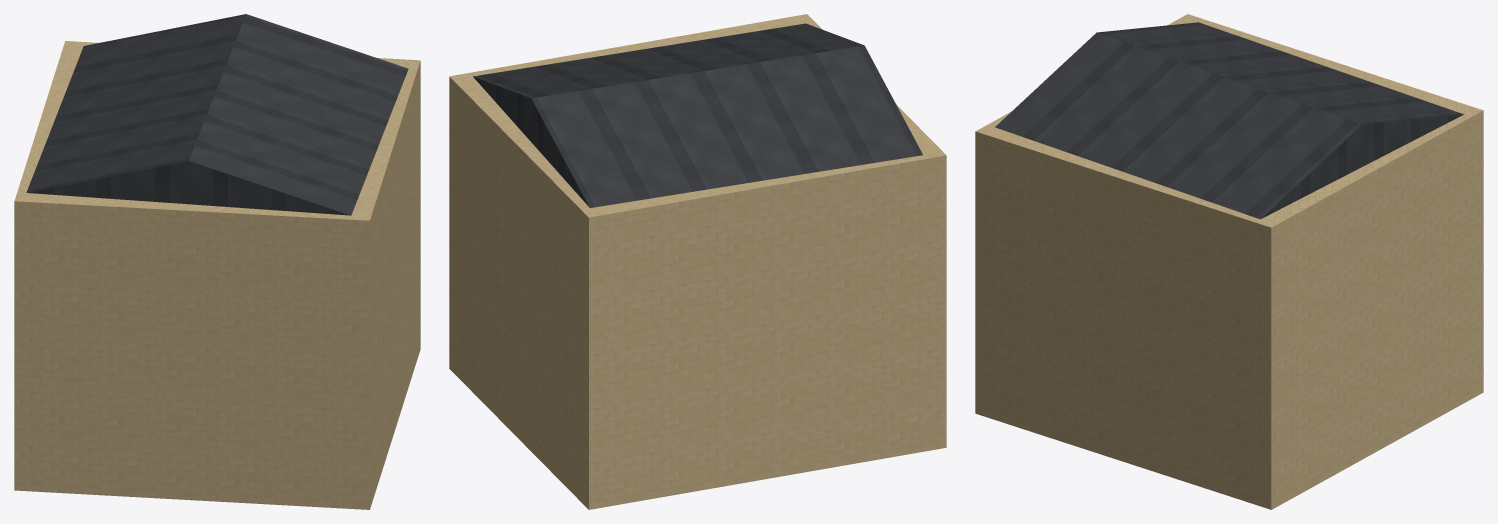
3 renders of one model, left to right at view 1: azimuth 30°, elevation 25°; view 2: azimuth 150°, elevation 25°; view 3: azimuth 270°, elevation 25°, orthographic. The views are drawn at different scales.
Parts seen in each view (by area): view 1: bldg_181346839, bldg_181346839_roof; view 2: bldg_181346839, bldg_181346839_roof; view 3: bldg_181346839, bldg_181346839_roof.
Boxes of the visible parts, x1,y1,x2,y2 form: bldg_181346839: [14, 41, 420, 509]; bldg_181346839_roof: [26, 14, 408, 215]; bldg_181346839: [449, 14, 946, 509]; bldg_181346839_roof: [473, 23, 922, 207]; bldg_181346839: [975, 14, 1483, 509]; bldg_181346839_roof: [995, 22, 1463, 219].
Size of the model in its own units: 21.04 by 14.89 by 21.13.
2 materials, 2 textured.
